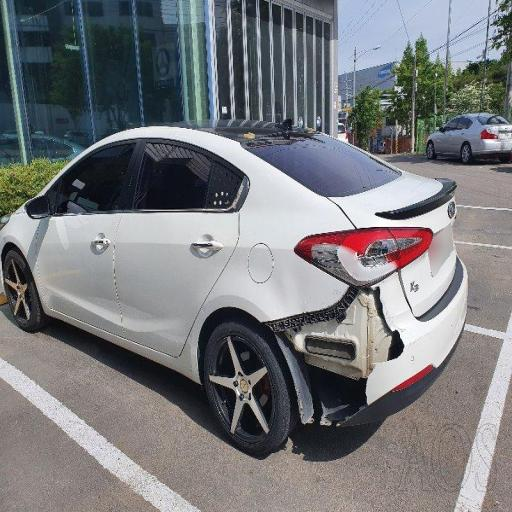broken: (271, 222, 424, 430)
scratch: (33, 197, 193, 365)
